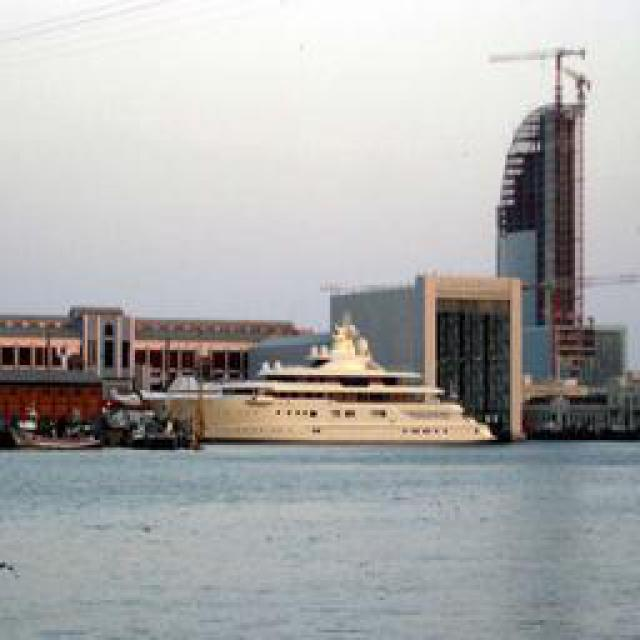Ship: (146, 306, 489, 451)
